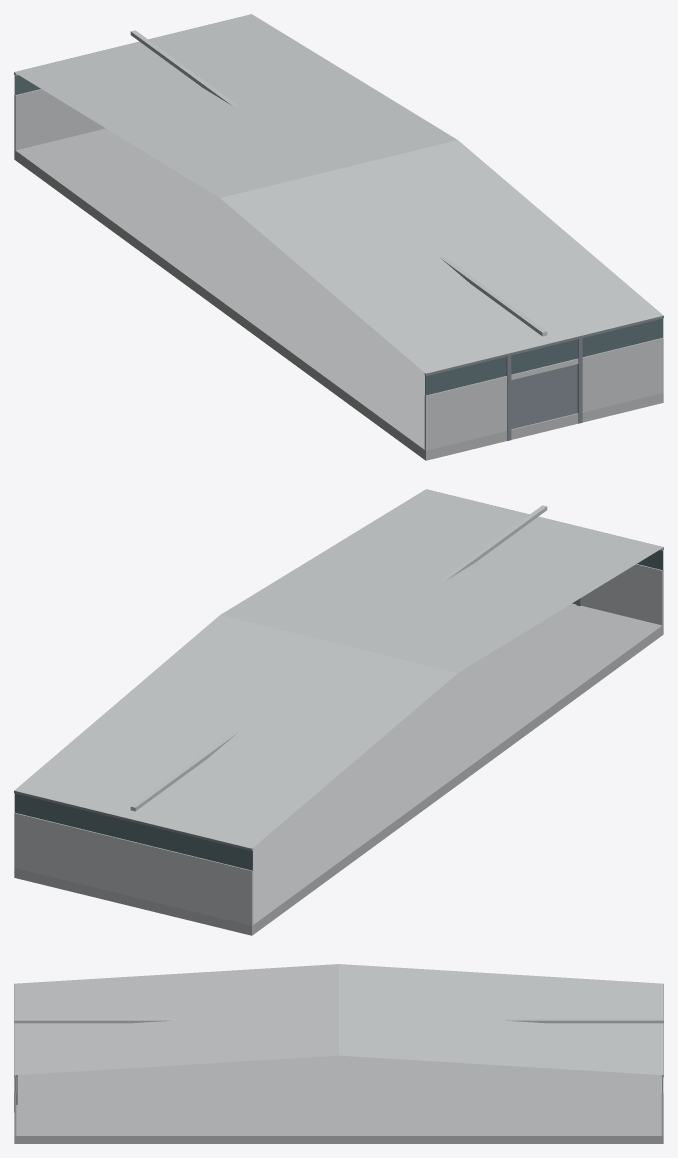
File: industrial_s1.glb
The picture shows the model from 3 angles, top to bottom: view 1: azimuth 30°, elevation 25°; view 2: azimuth 150°, elevation 25°; view 3: azimuth 270°, elevation 25°; orthographic projection. The views are drawn at different scales.
Visible parts, largest first — view 1: industrial_s1; view 2: industrial_s1; view 3: industrial_s1.
Boxes of the visible parts, box(x1,y1,x2,y2) form: industrial_s1: box(14, 14, 663, 460); industrial_s1: box(14, 489, 663, 935); industrial_s1: box(14, 964, 663, 1143).
Bounding box in the file's own units: 20 × 9 × 60.
